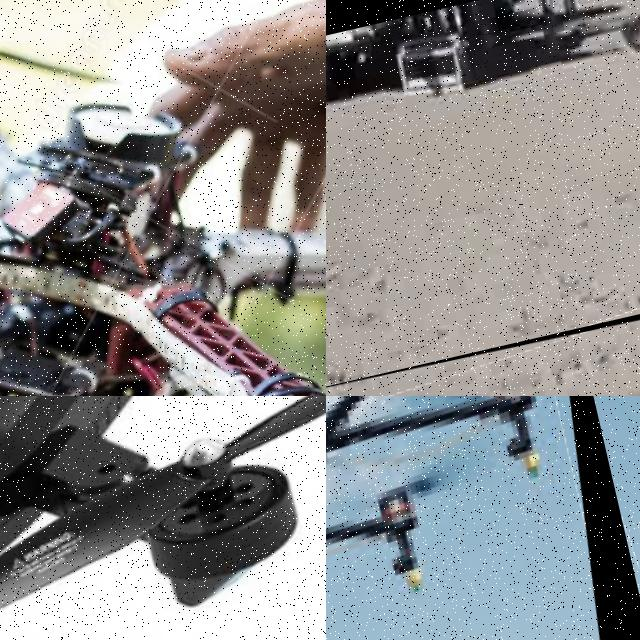0: (326, 295, 640, 396)
drone: (0, 0, 326, 396), (0, 396, 326, 640), (326, 396, 640, 640)
